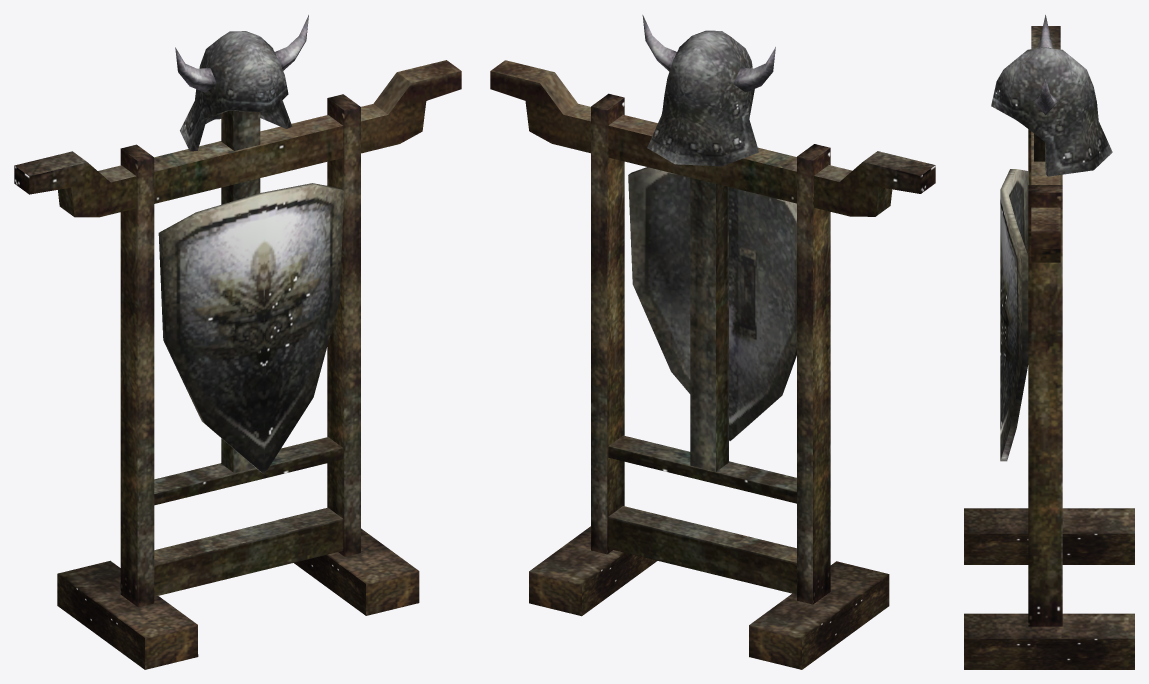
Rendered from ep_b_general_obj_38.glb.
3 renders of one model, left to right at view 1: azimuth 30°, elevation 25°; view 2: azimuth 150°, elevation 25°; view 3: azimuth 270°, elevation 25°, orthographic. The views are drawn at different scales.
Visible parts, largest first — view 1: ep_B_general_obj_38; view 2: ep_B_general_obj_38; view 3: ep_B_general_obj_38.
Boxes of the visible parts, bbox=[...] form: ep_B_general_obj_38: bbox=[14, 15, 461, 669]; ep_B_general_obj_38: bbox=[490, 15, 935, 669]; ep_B_general_obj_38: bbox=[964, 15, 1134, 669].
Size of the model in its own units: 1.94 by 2.46 by 0.6819.
1 material, 1 textured.
